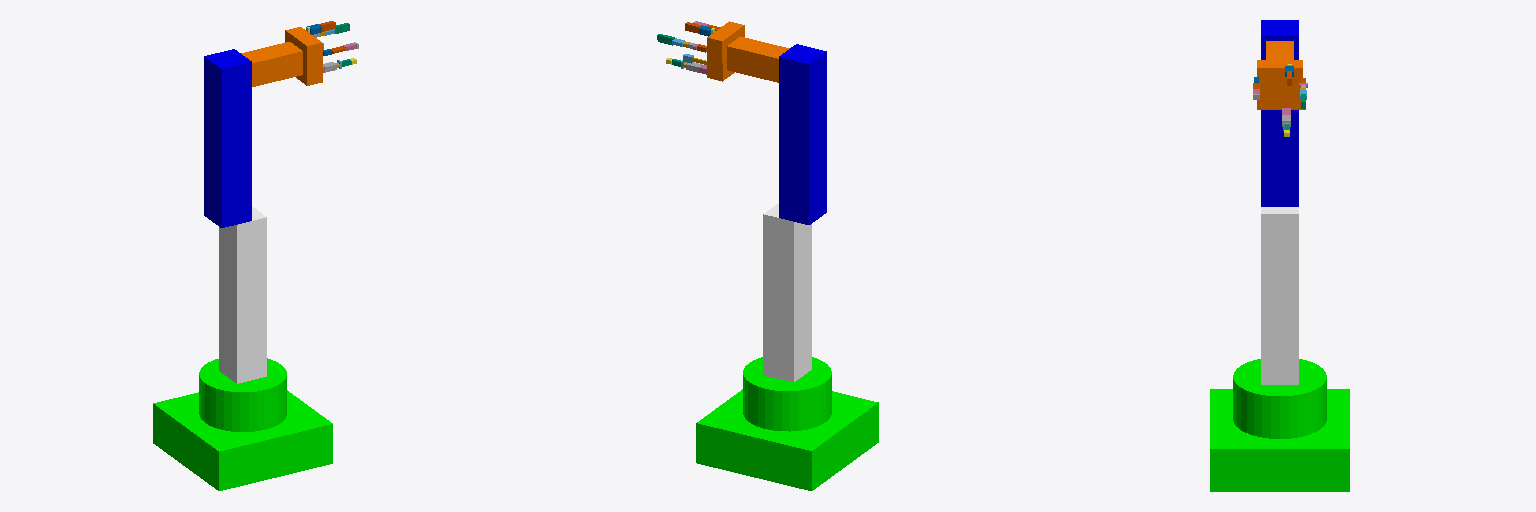
The robot description file, URDF, robot "robot":
<?xml version='1.0' encoding='utf-8'?>
<robot name="robot">
  <link name="base_link">
    <visual>
      <origin xyz="0 0 0.125" rpy="0 0 0" />
      <geometry>
        <box size="0.75 0.75 0.25" />
      </geometry>
      <material name="green" />
    </visual>
    <visual>
      <origin xyz="0 0 0.375" rpy="0 0 0" />
      <geometry>
        <cylinder length="0.25" radius="0.25" />
      </geometry>
      <material name="green">
        <color rgba="0 1 0 1" />
      </material>
    </visual>
    <collision>
      <geometry>
        <box size="0.75 0.75 0.5" />
      </geometry>
    </collision>
    <inertial>
      <mass value="0.5" />
      <inertia ixx="0.034" ixy="0.0" ixz="0.0" iyy="0.034" iyz="0.0" izz="0.034" />
    </inertial>
  </link>
  <link name="support_link">
    <visual>
      <origin xyz="0 0 0.5" rpy="0 0 0" />
      <geometry>
        <box size="0.2 0.2 1" />
      </geometry>
      <material name="white">
        <color rgba="1 1 1 1" />
      </material>
    </visual>
    <collision>
      <geometry>
        <box size="0.2 0.2 1" />
      </geometry>
    </collision>
    <inertial>
      <mass value="0.1" />
      <inertia ixx="0.01" ixy="0.0" ixz="0.0" iyy="0.01" iyz="0.0" izz="0.01" />
    </inertial>
  </link>
  <joint name="support_joint" type="continuous">
    <origin xyz="0 0 0.5" rpy="0 0 0" />
    <parent link="base_link" />
    <child link="support_link" />
    <axis xyz="0 0 1" />
  </joint>
  <link name="arm_link">
    <visual>
      <origin xyz="0 0 0.5" rpy="0 0 0" />
      <geometry>
        <box size="0.2 0.2 1" />
      </geometry>
      <material name="blue">
        <color rgba="0 0 1 1" />
      </material>
    </visual>
    <collision>
      <geometry>
        <box size="0.2 0.2 1" />
      </geometry>
    </collision>
    <inertial>
      <mass value="0.1" />
      <inertia ixx="0.01" ixy="0.0" ixz="0.0" iyy="0.01" iyz="0.0" izz="0.01" />
    </inertial>
  </link>
  <joint name="arm_joint" type="revolute">
    <origin xyz="-0.1 0 1" rpy="0 0 0" />
    <parent link="support_link" />
    <child link="arm_link" />
    <axis xyz="0 1 0" />
    <limit lower="-3.14" upper="3.14" effort="1.0" velocity="1.0" />
  </joint>
  <link name="wrist_link">
    <visual>
      <origin xyz="0 0 0.25" rpy="0 0 0" />
      <geometry>
        <box size="0.15 0.15 0.5" />
      </geometry>
      <material name="orange">
        <color rgba="1 0.5 0 1" />
      </material>
    </visual>
    <collision>
      <geometry>
        <box size="0.15 0.15 0.5" />
      </geometry>
    </collision>
    <inertial>
      <mass value="0.1" />
      <inertia ixx="0.01" ixy="0.0" ixz="0.0" iyy="0.01" iyz="0.0" izz="0.01" />
    </inertial>
  </link>
  <joint name="wrist_joint" type="fixed">
    <origin xyz="0 0 0.9" rpy="0 1.571 0" />
    <parent link="arm_link" />
    <child link="wrist_link" />
  </joint>
  <link name="palm_link">
    <visual>
      <origin xyz="0 0 0.05" rpy="0 0 0" />
      <geometry>
        <box size="0.25 0.25 0.1" />
      </geometry>
      <material name="orange" />
    </visual>
    <collision>
      <geometry>
        <box size="0.25 0.25 0.1" />
      </geometry>
    </collision>
    <inertial>
      <mass value="0.1" />
      <inertia ixx="0.01" ixy="0.0" ixz="0.0" iyy="0.01" iyz="0.0" izz="0.01" />
    </inertial>
  </link>
  <joint name="palm_joint" type="fixed">
    <origin xyz="0 0 0.45" rpy="0 0 0" />
    <parent link="wrist_link" />
    <child link="palm_link" />
  </joint>
  <link name="link_0_0">
    <visual>
      <origin xyz="0 0 0.0285" rpy="0 0 0" />
      <geometry>
        <box size="0.028 0.03 0.057" />
      </geometry>
    </visual>
    <collision>
      <geometry>
        <box size="0.028 0.03 0.057" />
      </geometry>
    </collision>
    <inertial>
      <mass value="0.014" />
      <inertia ixx="0.0" iyy="0.0" izz="0.0" ixy="0" ixz="0" iyz="0" />
    </inertial>
  </link>
  <joint name="joint_palm_link_to_link_0_0" type="revolute">
    <origin xyz="-0.051 0.125 0.1" rpy="0 0 0" />
    <parent link="palm_link" />
    <child link="link_0_0" />
    <axis xyz="0.987 0.676 0.374" />
    <limit lower="-3.142" upper="3.142" effort="10" velocity="10" />
  </joint>
  <link name="link_0_1">
    <visual>
      <origin xyz="0 0 0.0105" rpy="0 0 0" />
      <geometry>
        <box size="0.018 0.047 0.021" />
      </geometry>
    </visual>
    <collision>
      <geometry>
        <box size="0.018 0.047 0.021" />
      </geometry>
    </collision>
    <inertial>
      <mass value="0.005" />
      <inertia ixx="0.0" iyy="0.0" izz="0.0" ixy="0" ixz="0" iyz="0" />
    </inertial>
  </link>
  <joint name="joint_link_0_0_to_link_0_1" type="revolute">
    <origin xyz="0.0 0.0 0.057" rpy="0 0 0" />
    <parent link="link_0_0" />
    <child link="link_0_1" />
    <axis xyz="0.279 0.553 0.137" />
    <limit lower="-3.142" upper="3.142" effort="10" velocity="10" />
  </joint>
  <link name="link_0_2">
    <visual>
      <origin xyz="0 0 0.02" rpy="0 0 0" />
      <geometry>
        <box size="0.024 0.029 0.04" />
      </geometry>
    </visual>
    <collision>
      <geometry>
        <box size="0.024 0.029 0.04" />
      </geometry>
    </collision>
    <inertial>
      <mass value="0.008" />
      <inertia ixx="0.0" iyy="0.0" izz="0.0" ixy="0" ixz="0" iyz="0" />
    </inertial>
  </link>
  <joint name="joint_link_0_1_to_link_0_2" type="revolute">
    <origin xyz="0.0 0.0 0.021" rpy="0 0 0" />
    <parent link="link_0_1" />
    <child link="link_0_2" />
    <axis xyz="0.772 0.014 0.049" />
    <limit lower="-3.142" upper="3.142" effort="10" velocity="10" />
  </joint>
  <link name="link_0_3">
    <visual>
      <origin xyz="0 0 0.0155" rpy="0 0 0" />
      <geometry>
        <box size="0.02 0.032 0.031" />
      </geometry>
    </visual>
    <collision>
      <geometry>
        <box size="0.02 0.032 0.031" />
      </geometry>
    </collision>
    <inertial>
      <mass value="0.006" />
      <inertia ixx="0.0" iyy="0.0" izz="0.0" ixy="0" ixz="0" iyz="0" />
    </inertial>
  </link>
  <joint name="joint_link_0_2_to_link_0_3" type="revolute">
    <origin xyz="0.0 0.0 0.04" rpy="0 0 0" />
    <parent link="link_0_2" />
    <child link="link_0_3" />
    <axis xyz="0.111 0.173 0.846" />
    <limit lower="-3.142" upper="3.142" effort="10" velocity="10" />
  </joint>
  <link name="link_0_4">
    <visual>
      <origin xyz="0 0 0.034" rpy="0 0 0" />
      <geometry>
        <box size="0.023 0.041 0.068" />
      </geometry>
    </visual>
    <collision>
      <geometry>
        <box size="0.023 0.041 0.068" />
      </geometry>
    </collision>
    <inertial>
      <mass value="0.019" />
      <inertia ixx="0.0" iyy="0.0" izz="0.0" ixy="0" ixz="0" iyz="0" />
    </inertial>
  </link>
  <joint name="joint_link_0_3_to_link_0_4" type="revolute">
    <origin xyz="0.0 0.0 0.031" rpy="0 0 0" />
    <parent link="link_0_3" />
    <child link="link_0_4" />
    <axis xyz="0.853 0.624 0.494" />
    <limit lower="-3.142" upper="3.142" effort="10" velocity="10" />
  </joint>
  <link name="link_0_5">
    <visual>
      <origin xyz="0 0 0.0495" rpy="0 0 0" />
      <geometry>
        <box size="0.043 0.022 0.099" />
      </geometry>
    </visual>
    <collision>
      <geometry>
        <box size="0.043 0.022 0.099" />
      </geometry>
    </collision>
    <inertial>
      <mass value="0.028" />
      <inertia ixx="0.0" iyy="0.0" izz="0.0" ixy="0" ixz="0" iyz="0" />
    </inertial>
  </link>
  <joint name="joint_link_0_4_to_link_0_5" type="revolute">
    <origin xyz="0.0 0.0 0.068" rpy="0 0 0" />
    <parent link="link_0_4" />
    <child link="link_0_5" />
    <axis xyz="0.517 0.912 0.144" />
    <limit lower="-3.142" upper="3.142" effort="10" velocity="10" />
  </joint>
  <link name="link_1_0">
    <visual>
      <origin xyz="0 0 0.0065" rpy="0 0 0" />
      <geometry>
        <box size="0.046 0.021 0.013" />
      </geometry>
    </visual>
    <collision>
      <geometry>
        <box size="0.046 0.021 0.013" />
      </geometry>
    </collision>
    <inertial>
      <mass value="0.004" />
      <inertia ixx="0.0" iyy="0.0" izz="0.0" ixy="0" ixz="0" iyz="0" />
    </inertial>
  </link>
  <joint name="joint_palm_link_to_link_1_0" type="revolute">
    <origin xyz="-0.125 0.052 0.1" rpy="0 0 0" />
    <parent link="palm_link" />
    <child link="link_1_0" />
    <axis xyz="0.541 0.362 0.735" />
    <limit lower="-3.142" upper="3.142" effort="10" velocity="10" />
  </joint>
  <link name="link_1_1">
    <visual>
      <origin xyz="0 0 0.0355" rpy="0 0 0" />
      <geometry>
        <box size="0.035 0.047 0.071" />
      </geometry>
    </visual>
    <collision>
      <geometry>
        <box size="0.035 0.047 0.071" />
      </geometry>
    </collision>
    <inertial>
      <mass value="0.035" />
      <inertia ixx="0.0" iyy="0.0" izz="0.0" ixy="0" ixz="0" iyz="0" />
    </inertial>
  </link>
  <joint name="joint_link_1_0_to_link_1_1" type="revolute">
    <origin xyz="0.0 0.0 0.013" rpy="0 0 0" />
    <parent link="link_1_0" />
    <child link="link_1_1" />
    <axis xyz="0.458 0.471 0.071" />
    <limit lower="-3.142" upper="3.142" effort="10" velocity="10" />
  </joint>
  <link name="link_1_2">
    <visual>
      <origin xyz="0 0 0.0475" rpy="0 0 0" />
      <geometry>
        <box size="0.041 0.028 0.095" />
      </geometry>
    </visual>
    <collision>
      <geometry>
        <box size="0.041 0.028 0.095" />
      </geometry>
    </collision>
    <inertial>
      <mass value="0.033" />
      <inertia ixx="0.0" iyy="0.0" izz="0.0" ixy="0" ixz="0" iyz="0" />
    </inertial>
  </link>
  <joint name="joint_link_1_1_to_link_1_2" type="revolute">
    <origin xyz="0.0 0.0 0.071" rpy="0 0 0" />
    <parent link="link_1_1" />
    <child link="link_1_2" />
    <axis xyz="0.161 0.972 0.682" />
    <limit lower="-3.142" upper="3.142" effort="10" velocity="10" />
  </joint>
  <link name="link_2_0">
    <visual>
      <origin xyz="0 0 0.046" rpy="0 0 0" />
      <geometry>
        <box size="0.033 0.046 0.092" />
      </geometry>
    </visual>
    <collision>
      <geometry>
        <box size="0.033 0.046 0.092" />
      </geometry>
    </collision>
    <inertial>
      <mass value="0.042" />
      <inertia ixx="0.0" iyy="0.0" izz="0.0" ixy="0" ixz="0" iyz="0" />
    </inertial>
  </link>
  <joint name="joint_palm_link_to_link_2_0" type="revolute">
    <origin xyz="0.125 0.036 0.1" rpy="0 0 0" />
    <parent link="palm_link" />
    <child link="link_2_0" />
    <axis xyz="0.539 0.851 0.098" />
    <limit lower="-3.142" upper="3.142" effort="10" velocity="10" />
  </joint>
  <link name="link_2_1">
    <visual>
      <origin xyz="0 0 0.0405" rpy="0 0 0" />
      <geometry>
        <box size="0.034 0.047 0.081" />
      </geometry>
    </visual>
    <collision>
      <geometry>
        <box size="0.034 0.047 0.081" />
      </geometry>
    </collision>
    <inertial>
      <mass value="0.039" />
      <inertia ixx="0.0" iyy="0.0" izz="0.0" ixy="0" ixz="0" iyz="0" />
    </inertial>
  </link>
  <joint name="joint_link_2_0_to_link_2_1" type="revolute">
    <origin xyz="0.0 0.0 0.092" rpy="0 0 0" />
    <parent link="link_2_0" />
    <child link="link_2_1" />
    <axis xyz="0.819 0.959 0.736" />
    <limit lower="-3.142" upper="3.142" effort="10" velocity="10" />
  </joint>
  <link name="link_2_2">
    <visual>
      <origin xyz="0 0 0.013" rpy="0 0 0" />
      <geometry>
        <box size="0.017 0.031 0.026" />
      </geometry>
    </visual>
    <collision>
      <geometry>
        <box size="0.017 0.031 0.026" />
      </geometry>
    </collision>
    <inertial>
      <mass value="0.004" />
      <inertia ixx="0.0" iyy="0.0" izz="0.0" ixy="0" ixz="0" iyz="0" />
    </inertial>
  </link>
  <joint name="joint_link_2_1_to_link_2_2" type="revolute">
    <origin xyz="0.0 0.0 0.081" rpy="0 0 0" />
    <parent link="link_2_1" />
    <child link="link_2_2" />
    <axis xyz="0.367 0.796 0.39" />
    <limit lower="-3.142" upper="3.142" effort="10" velocity="10" />
  </joint>
  <link name="link_2_3">
    <visual>
      <origin xyz="0 0 0.007" rpy="0 0 0" />
      <geometry>
        <box size="0.043 0.036 0.014" />
      </geometry>
    </visual>
    <collision>
      <geometry>
        <box size="0.043 0.036 0.014" />
      </geometry>
    </collision>
    <inertial>
      <mass value="0.007" />
      <inertia ixx="0.0" iyy="0.0" izz="0.0" ixy="0" ixz="0" iyz="0" />
    </inertial>
  </link>
  <joint name="joint_link_2_2_to_link_2_3" type="revolute">
    <origin xyz="0.0 0.0 0.026" rpy="0 0 0" />
    <parent link="link_2_2" />
    <child link="link_2_3" />
    <axis xyz="0.893 0.993 0.52" />
    <limit lower="-3.142" upper="3.142" effort="10" velocity="10" />
  </joint>
  <link name="link_2_4">
    <visual>
      <origin xyz="0 0 0.031" rpy="0 0 0" />
      <geometry>
        <box size="0.031 0.019 0.062" />
      </geometry>
    </visual>
    <collision>
      <geometry>
        <box size="0.031 0.019 0.062" />
      </geometry>
    </collision>
    <inertial>
      <mass value="0.011" />
      <inertia ixx="0.0" iyy="0.0" izz="0.0" ixy="0" ixz="0" iyz="0" />
    </inertial>
  </link>
  <joint name="joint_link_2_3_to_link_2_4" type="revolute">
    <origin xyz="0.0 0.0 0.014" rpy="0 0 0" />
    <parent link="link_2_3" />
    <child link="link_2_4" />
    <axis xyz="0.619 0.938 0.75" />
    <limit lower="-3.142" upper="3.142" effort="10" velocity="10" />
  </joint>
  <link name="link_2_5">
    <visual>
      <origin xyz="0 0 0.0175" rpy="0 0 0" />
      <geometry>
        <box size="0.024 0.03 0.035" />
      </geometry>
    </visual>
    <collision>
      <geometry>
        <box size="0.024 0.03 0.035" />
      </geometry>
    </collision>
    <inertial>
      <mass value="0.008" />
      <inertia ixx="0.0" iyy="0.0" izz="0.0" ixy="0" ixz="0" iyz="0" />
    </inertial>
  </link>
  <joint name="joint_link_2_4_to_link_2_5" type="revolute">
    <origin xyz="0.0 0.0 0.062" rpy="0 0 0" />
    <parent link="link_2_4" />
    <child link="link_2_5" />
    <axis xyz="0.795 0.011 0.032" />
    <limit lower="-3.142" upper="3.142" effort="10" velocity="10" />
  </joint>
  <link name="link_3_0">
    <visual>
      <origin xyz="0 0 0.028" rpy="0 0 0" />
      <geometry>
        <box size="0.025 0.027 0.056" />
      </geometry>
    </visual>
    <collision>
      <geometry>
        <box size="0.025 0.027 0.056" />
      </geometry>
    </collision>
    <inertial>
      <mass value="0.011" />
      <inertia ixx="0.0" iyy="0.0" izz="0.0" ixy="0" ixz="0" iyz="0" />
    </inertial>
  </link>
  <joint name="joint_palm_link_to_link_3_0" type="revolute">
    <origin xyz="-0.056 -0.125 0.1" rpy="0 0 0" />
    <parent link="palm_link" />
    <child link="link_3_0" />
    <axis xyz="0.017 0.66 0.739" />
    <limit lower="-3.142" upper="3.142" effort="10" velocity="10" />
  </joint>
  <link name="link_3_1">
    <visual>
      <origin xyz="0 0 0.0435" rpy="0 0 0" />
      <geometry>
        <box size="0.014 0.041 0.087" />
      </geometry>
    </visual>
    <collision>
      <geometry>
        <box size="0.014 0.041 0.087" />
      </geometry>
    </collision>
    <inertial>
      <mass value="0.015" />
      <inertia ixx="0.0" iyy="0.0" izz="0.0" ixy="0" ixz="0" iyz="0" />
    </inertial>
  </link>
  <joint name="joint_link_3_0_to_link_3_1" type="revolute">
    <origin xyz="0.0 0.0 0.056" rpy="0 0 0" />
    <parent link="link_3_0" />
    <child link="link_3_1" />
    <axis xyz="0.667 0.884 0.361" />
    <limit lower="-3.142" upper="3.142" effort="10" velocity="10" />
  </joint>
  <link name="link_3_2">
    <visual>
      <origin xyz="0 0 0.036" rpy="0 0 0" />
      <geometry>
        <box size="0.024 0.034 0.072" />
      </geometry>
    </visual>
    <collision>
      <geometry>
        <box size="0.024 0.034 0.072" />
      </geometry>
    </collision>
    <inertial>
      <mass value="0.018" />
      <inertia ixx="0.0" iyy="0.0" izz="0.0" ixy="0" ixz="0" iyz="0" />
    </inertial>
  </link>
  <joint name="joint_link_3_1_to_link_3_2" type="revolute">
    <origin xyz="0.0 0.0 0.087" rpy="0 0 0" />
    <parent link="link_3_1" />
    <child link="link_3_2" />
    <axis xyz="0.941 0.617 0.21" />
    <limit lower="-3.142" upper="3.142" effort="10" velocity="10" />
  </joint>
  <link name="link_3_3">
    <visual>
      <origin xyz="0 0 0.006" rpy="0 0 0" />
      <geometry>
        <box size="0.028 0.038 0.012" />
      </geometry>
    </visual>
    <collision>
      <geometry>
        <box size="0.028 0.038 0.012" />
      </geometry>
    </collision>
    <inertial>
      <mass value="0.004" />
      <inertia ixx="0.0" iyy="0.0" izz="0.0" ixy="0" ixz="0" iyz="0" />
    </inertial>
  </link>
  <joint name="joint_link_3_2_to_link_3_3" type="revolute">
    <origin xyz="0.0 0.0 0.072" rpy="0 0 0" />
    <parent link="link_3_2" />
    <child link="link_3_3" />
    <axis xyz="0.414 0.067 0.674" />
    <limit lower="-3.142" upper="3.142" effort="10" velocity="10" />
  </joint>
  <link name="link_4_0">
    <visual>
      <origin xyz="0 0 0.046" rpy="0 0 0" />
      <geometry>
        <box size="0.022 0.011 0.092" />
      </geometry>
    </visual>
    <collision>
      <geometry>
        <box size="0.022 0.011 0.092" />
      </geometry>
    </collision>
    <inertial>
      <mass value="0.007" />
      <inertia ixx="0.0" iyy="0.0" izz="0.0" ixy="0" ixz="0" iyz="0" />
    </inertial>
  </link>
  <joint name="joint_palm_link_to_link_4_0" type="revolute">
    <origin xyz="0.033 0.125 0.1" rpy="0 0 0" />
    <parent link="palm_link" />
    <child link="link_4_0" />
    <axis xyz="0.571 0.058 0.451" />
    <limit lower="-3.142" upper="3.142" effort="10" velocity="10" />
  </joint>
  <link name="link_4_1">
    <visual>
      <origin xyz="0 0 0.028" rpy="0 0 0" />
      <geometry>
        <box size="0.039 0.028 0.056" />
      </geometry>
    </visual>
    <collision>
      <geometry>
        <box size="0.039 0.028 0.056" />
      </geometry>
    </collision>
    <inertial>
      <mass value="0.018" />
      <inertia ixx="0.0" iyy="0.0" izz="0.0" ixy="0" ixz="0" iyz="0" />
    </inertial>
  </link>
  <joint name="joint_link_4_0_to_link_4_1" type="revolute">
    <origin xyz="0.0 0.0 0.092" rpy="0 0 0" />
    <parent link="link_4_0" />
    <child link="link_4_1" />
    <axis xyz="0.556 0.97 0.864" />
    <limit lower="-3.142" upper="3.142" effort="10" velocity="10" />
  </joint>
</robot>

--- Facts derived from the render (not from the file) ---
Views: 3 orthographic renders of the robot side by side, from view 1: azimuth 30°, elevation 25°; view 2: azimuth 150°, elevation 25°; view 3: azimuth 270°, elevation 25°.
Model robot with 26 links and 25 joints (22 revolute, 1 continuous, 2 fixed), rooted at base_link, posed every joint at zero.
Visible links, largest first — view 1: base_link, arm_link, support_link, wrist_link, palm_link; view 2: base_link, arm_link, support_link, wrist_link, palm_link; view 3: base_link, support_link, arm_link, palm_link, wrist_link.
Boxes of the visible links, x1,y1,x2,y2 form: base_link: (153,358,332,490); arm_link: (204,49,251,227); support_link: (219,207,266,383); wrist_link: (241,42,302,86); palm_link: (285,27,322,85); base_link: (696,357,878,490); arm_link: (779,44,826,224); support_link: (763,203,811,382); wrist_link: (727,36,789,82); palm_link: (707,21,744,81); base_link: (1210,359,1349,491); support_link: (1261,207,1298,384); arm_link: (1261,20,1298,206); palm_link: (1257,60,1302,109); wrist_link: (1266,41,1293,59).
Bounding box of the posed robot: 1.14 × 0.75 × 2.55 m (x, y, z).
Geometry: primitives only (box / cylinder / sphere), no mesh files.